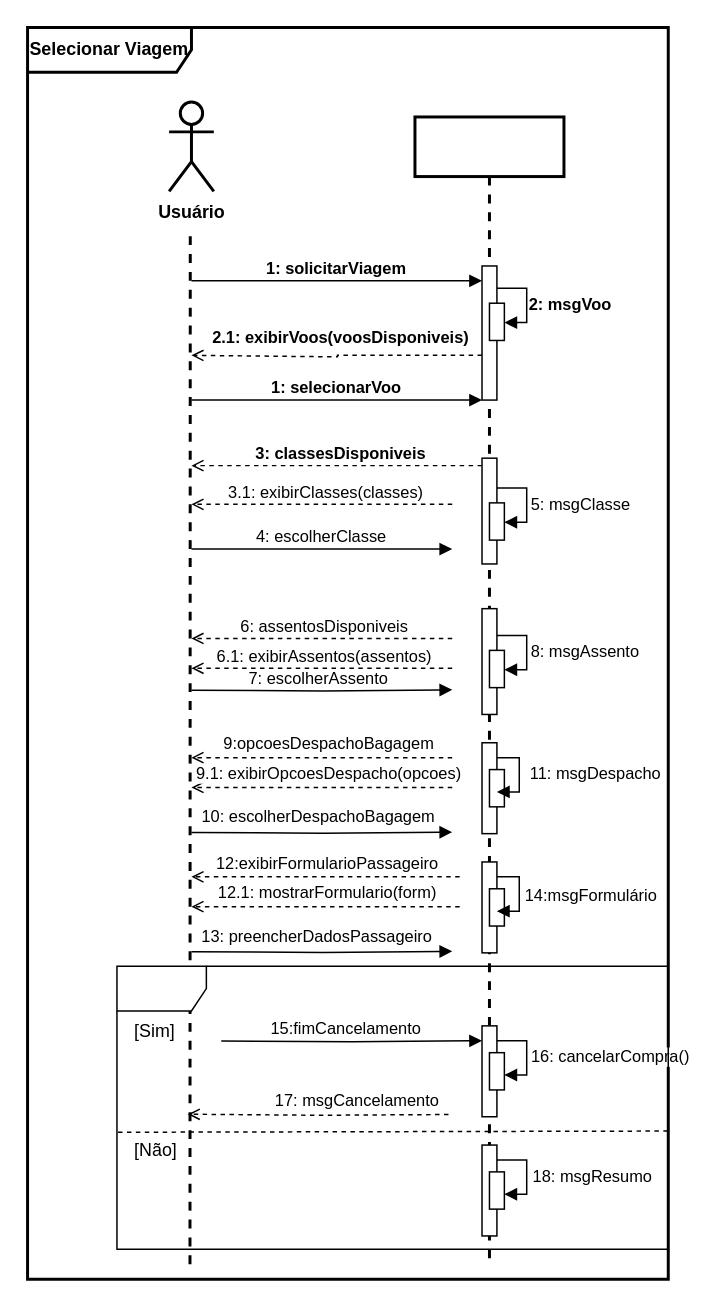
Some shapes in this 714 by 1305 pixel diagram are drawn without their labels. The shapes that lost their labels are listed below. From the top down, each one's box as (x1, y1, x2, y2) in pixels, then its label:
(413, 115, 565, 1265): Sistema
(115, 965, 668, 1249): Cancelar Voo
